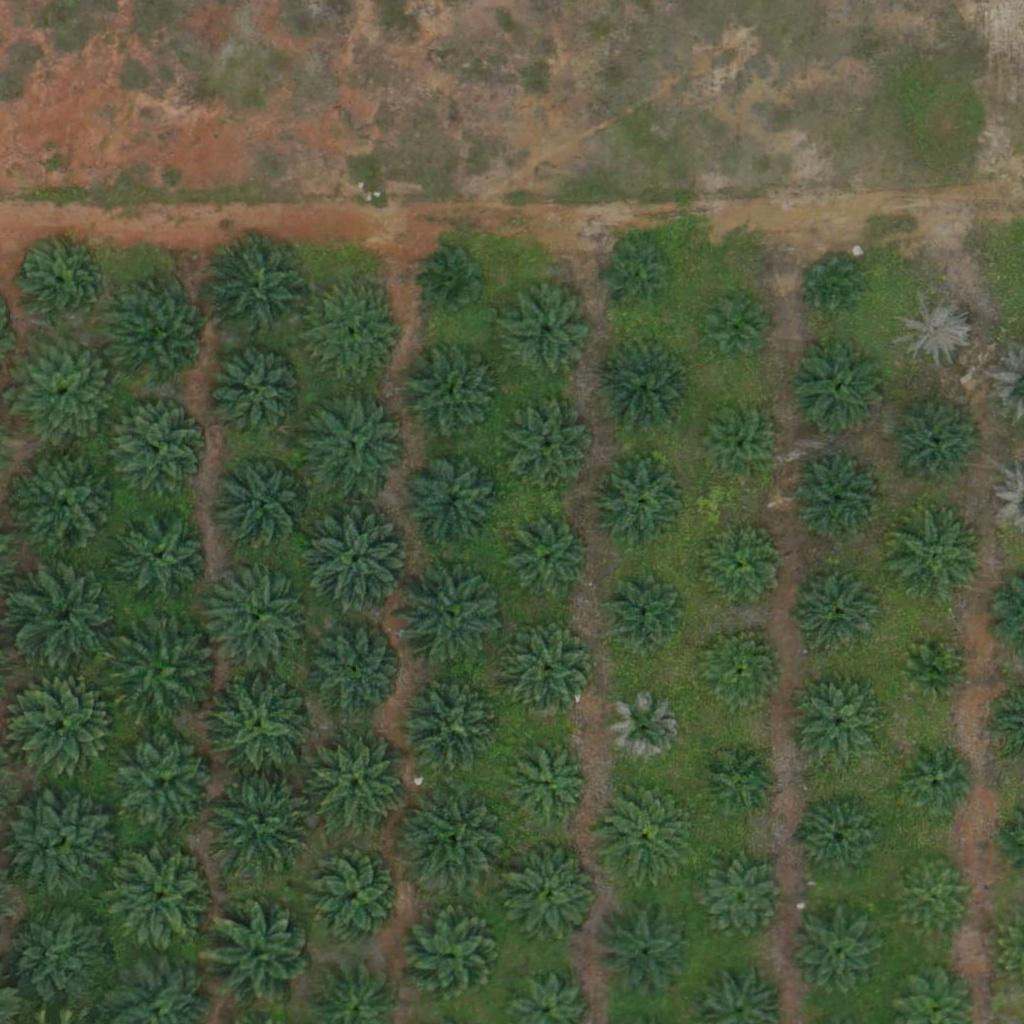Kelapa_Sawit: (8, 336, 121, 450), (12, 448, 125, 562), (109, 612, 222, 726), (201, 669, 314, 783), (209, 768, 322, 882), (396, 559, 509, 672), (203, 900, 316, 1013), (199, 562, 311, 676), (396, 784, 508, 898), (12, 563, 124, 676), (11, 787, 123, 900), (203, 233, 315, 346), (303, 503, 415, 616), (2, 903, 114, 1016), (14, 674, 114, 775), (111, 288, 211, 389), (116, 731, 216, 832), (212, 347, 312, 448), (214, 453, 314, 554), (305, 285, 405, 386), (307, 391, 407, 492), (401, 343, 501, 444), (404, 451, 504, 552), (402, 675, 502, 776), (498, 281, 598, 382), (600, 784, 700, 885), (688, 849, 788, 950), (594, 899, 694, 1000), (109, 846, 209, 947), (111, 397, 211, 497), (114, 508, 214, 608), (306, 619, 406, 719), (308, 736, 408, 836), (790, 339, 890, 439), (889, 393, 989, 493), (889, 507, 989, 607), (502, 843, 602, 943), (401, 905, 501, 1005), (305, 846, 405, 946), (506, 405, 594, 494), (696, 629, 784, 718), (798, 796, 886, 885), (697, 736, 785, 824), (600, 348, 688, 436), (597, 461, 685, 549), (699, 527, 787, 615), (793, 910, 881, 998), (15, 236, 102, 324), (503, 519, 590, 607), (506, 629, 593, 717), (795, 456, 882, 544), (794, 572, 881, 660), (795, 682, 882, 770), (512, 746, 587, 822), (896, 292, 971, 368), (702, 411, 777, 486), (902, 747, 977, 822), (606, 579, 681, 654), (608, 693, 683, 768), (894, 858, 969, 933), (607, 244, 670, 307), (704, 291, 767, 354), (424, 246, 487, 309), (904, 642, 967, 705), (800, 252, 862, 314)
